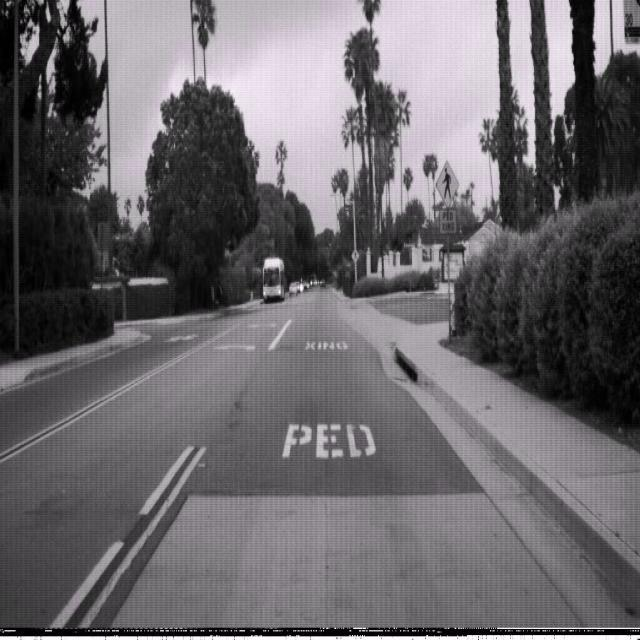pedestrianCrossing: (435, 158, 459, 209)
